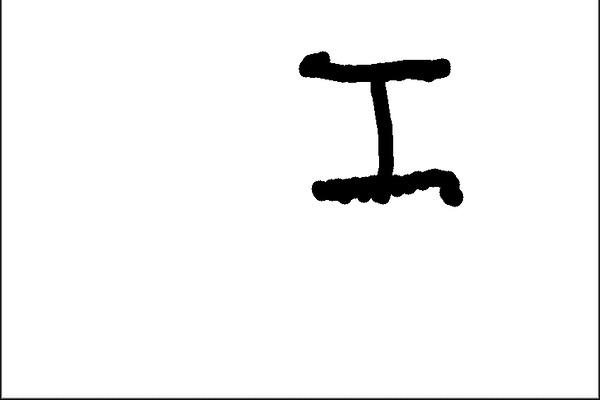i: (295, 46, 471, 212)
